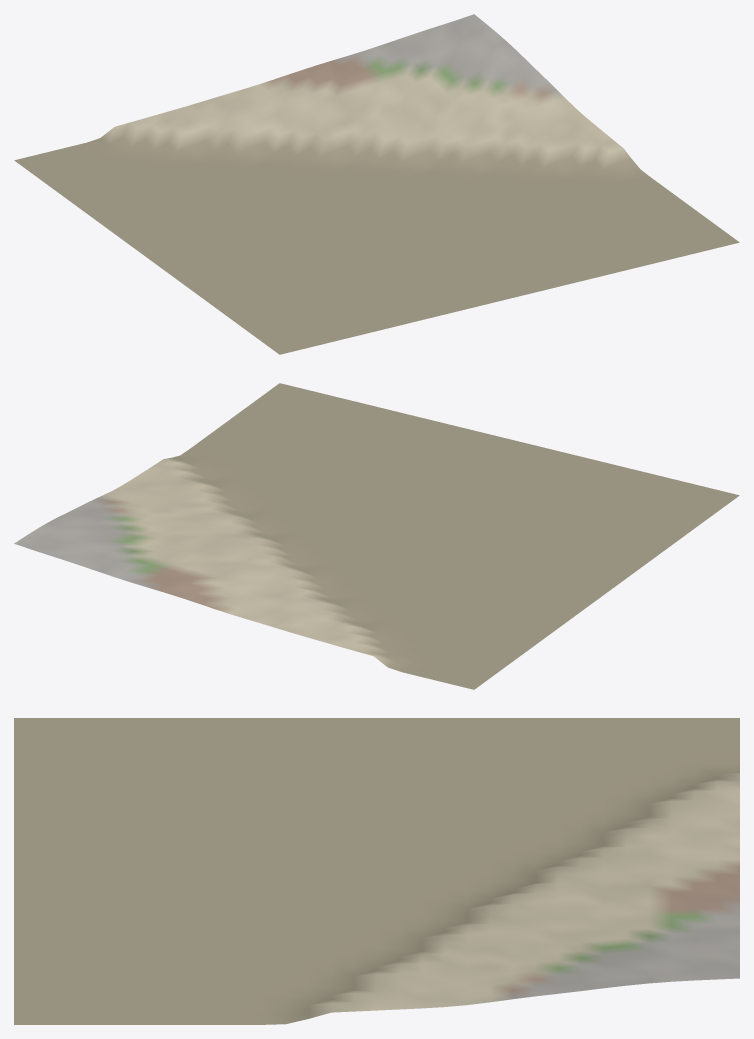
3 renders of one model, top to bottom at view 1: azimuth 30°, elevation 25°; view 2: azimuth 150°, elevation 25°; view 3: azimuth 270°, elevation 25°, orthographic. The views are drawn at different scales.
Visible parts, largest first — view 1: Terrain-col; view 2: Terrain-col; view 3: Terrain-col.
Boxes of the visible parts, <box> form: Terrain-col: <box>14,14,739,354</box>; Terrain-col: <box>14,383,739,689</box>; Terrain-col: <box>14,718,739,1024</box>.
Bounding box in the file's own units: 256 × 18.04 × 256.
